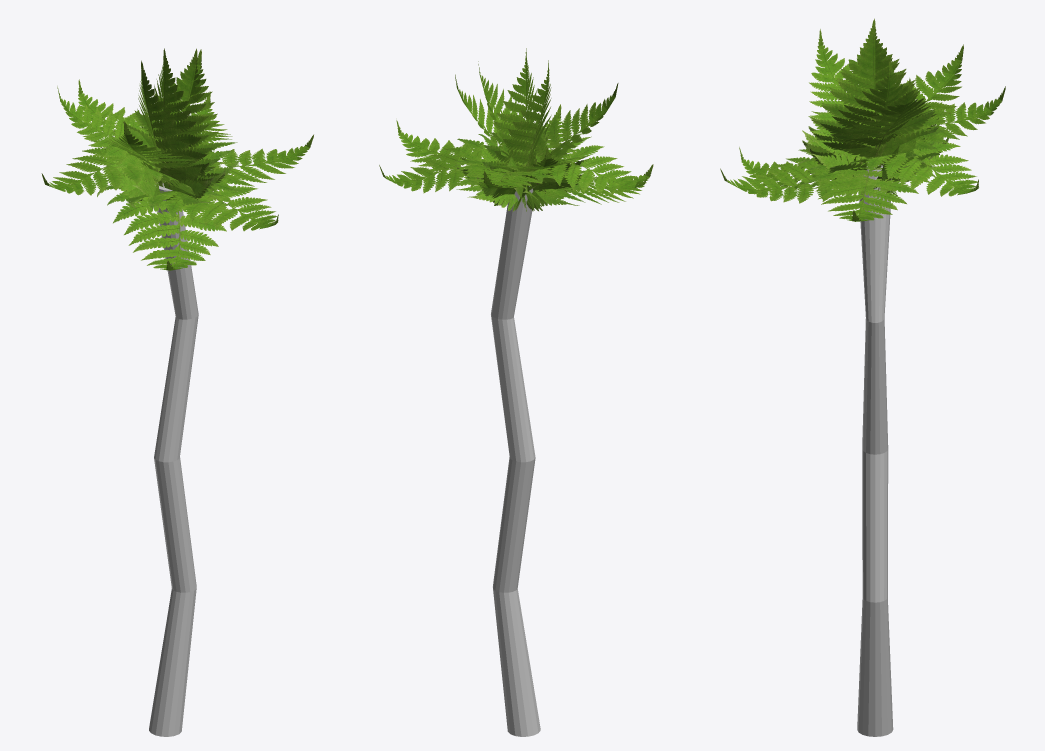
File: planta1.obj
3 views of the same model, side by side, from view 1: azimuth 30°, elevation 25°; view 2: azimuth 150°, elevation 25°; view 3: azimuth 270°, elevation 25° (orthographic). The views are drawn at different scales.
Parts seen in each view (by area): view 1: Plano, Cilindro.001; view 2: Plano, Cilindro.001; view 3: Plano, Cilindro.001.
Boxes of the visible parts, bbox=[...] form: Plano: bbox=[41, 48, 313, 270]; Cilindro.001: bbox=[149, 182, 198, 736]; Plano: bbox=[379, 48, 653, 211]; Cilindro.001: bbox=[491, 186, 540, 736]; Plano: bbox=[720, 18, 1005, 221]; Cilindro.001: bbox=[857, 162, 893, 736].
Size of the model in its own units: 4.54 by 11.28 by 4.63.
